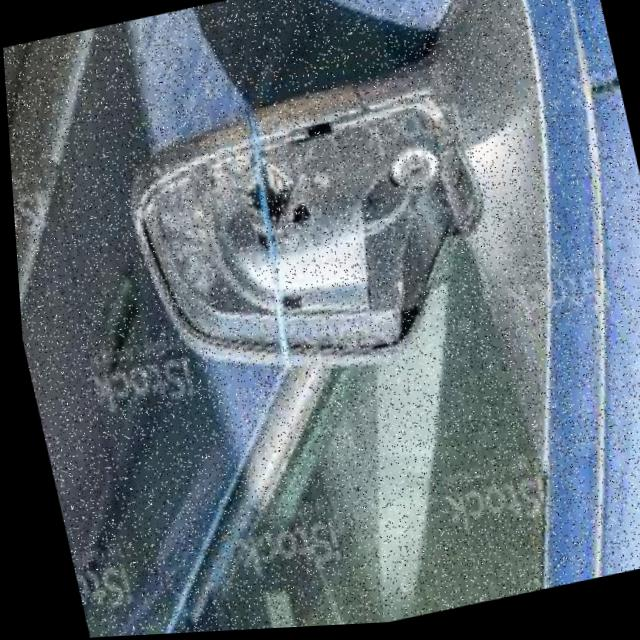Glass_Break: (84, 24, 534, 426)
